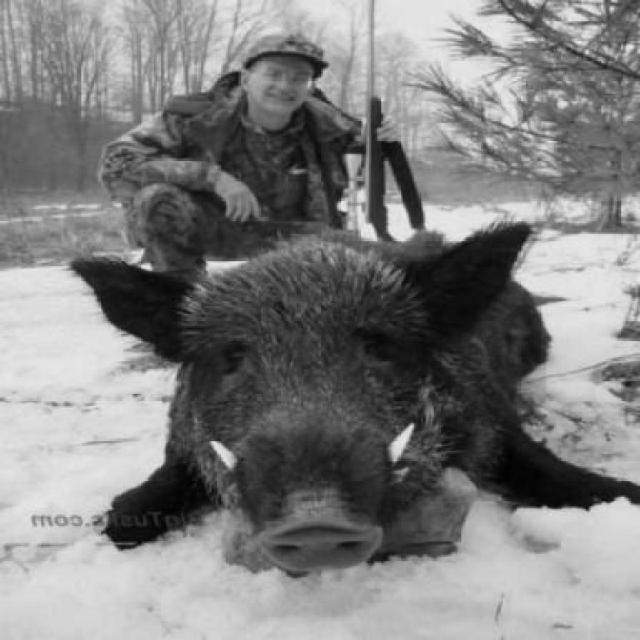Boar: (107, 158, 598, 602)
